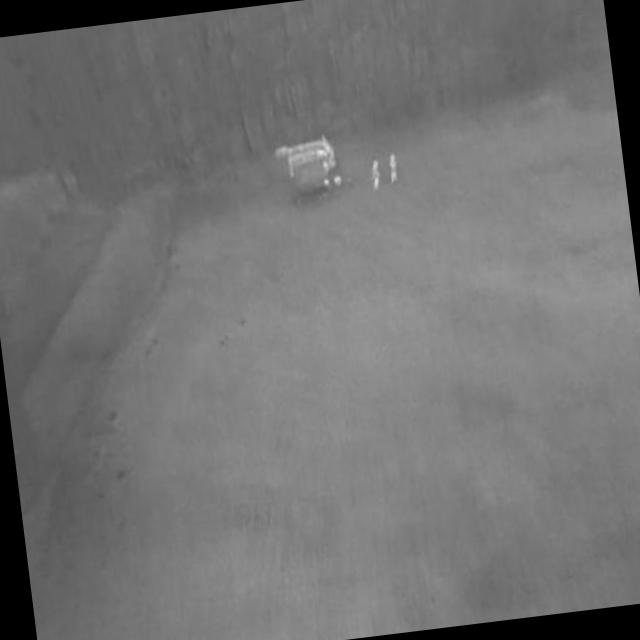person: (371, 159, 384, 190), (388, 153, 401, 184)
